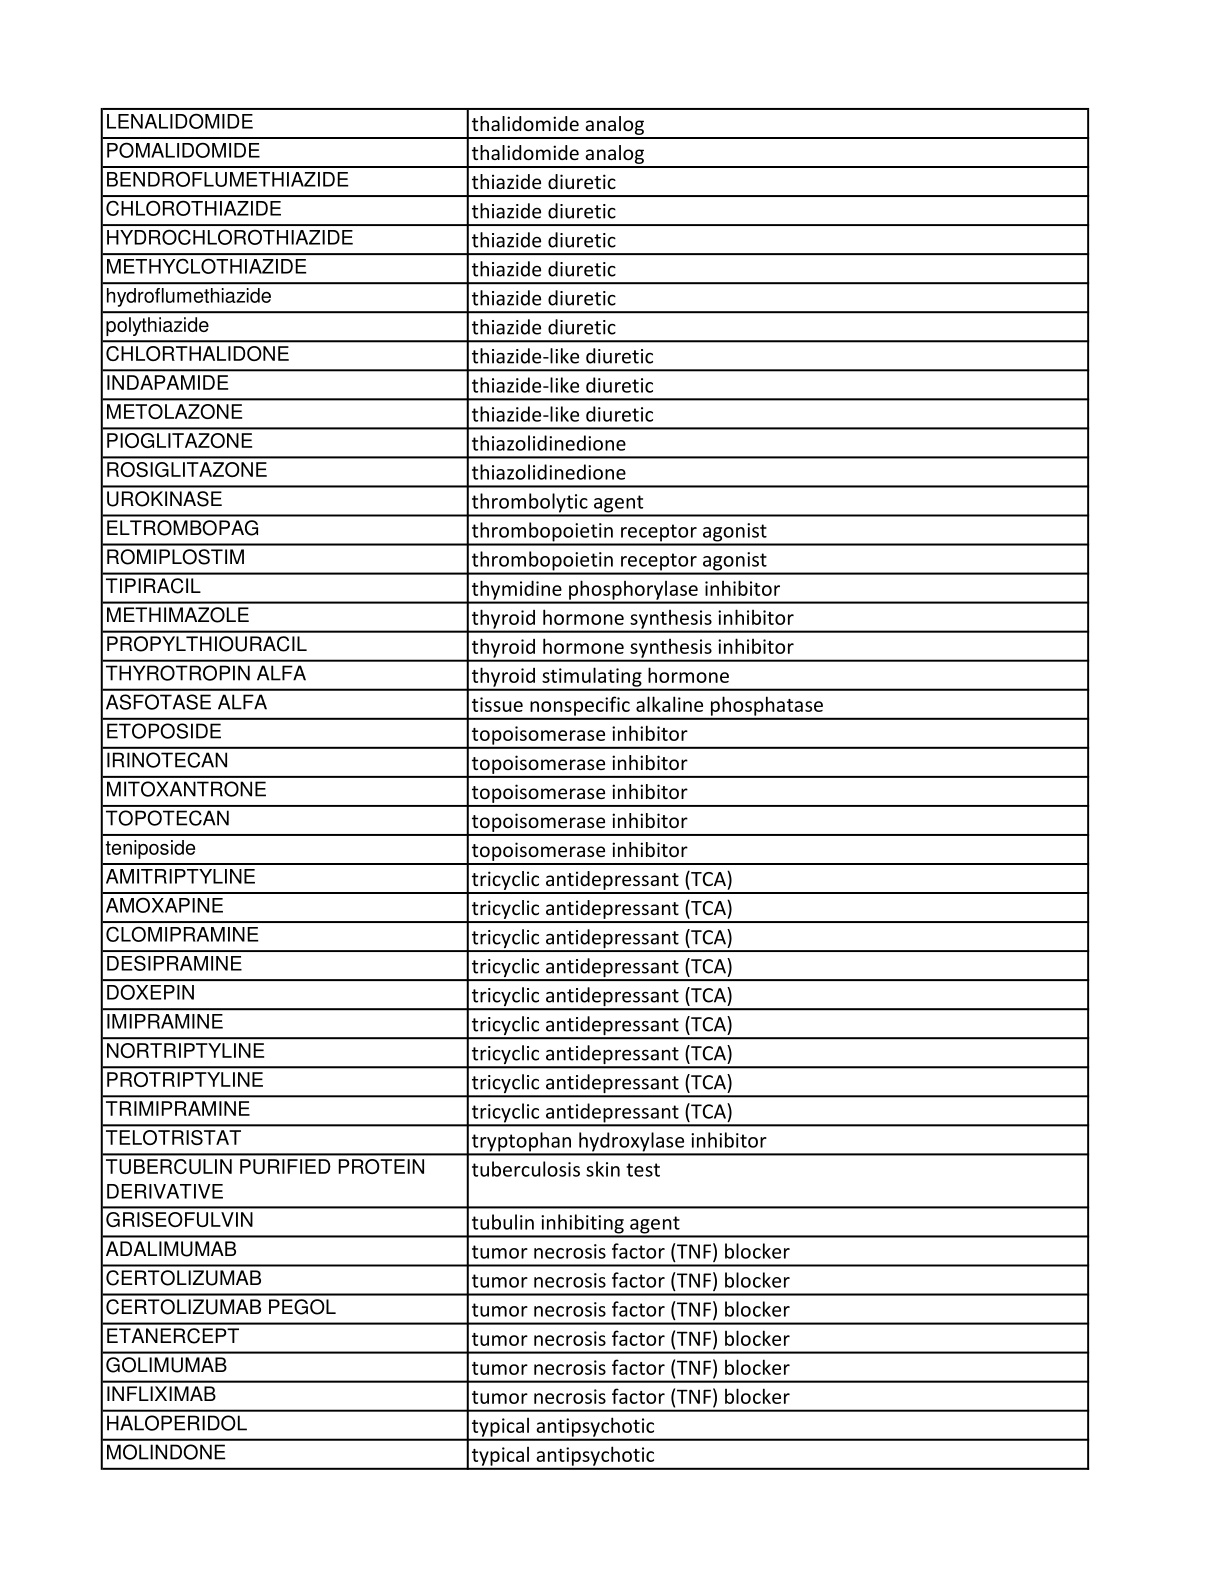full_lined: (100, 108, 1090, 1471)
